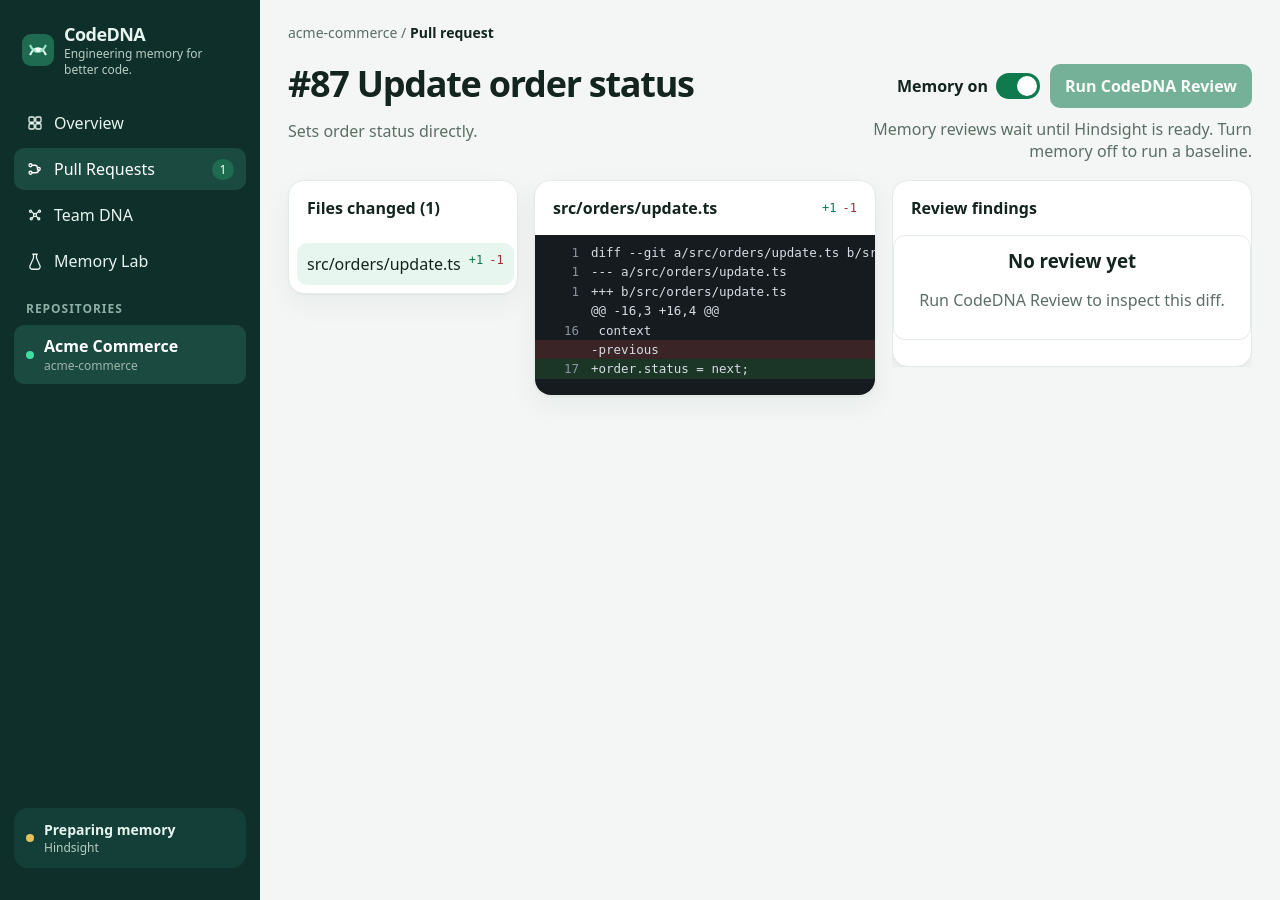
Scenario: keeps memory review disabled until Hindsight is ready and still allows a baseline
Expected: the heading "#87 Update order status" is shown, 288,64 -> 694,104
Expected: the text "Preparing memory" is shown, 44,820 -> 176,839
Click the switch named "Memory enabled": coordinates (1018, 86) 996,73 -> 1040,99
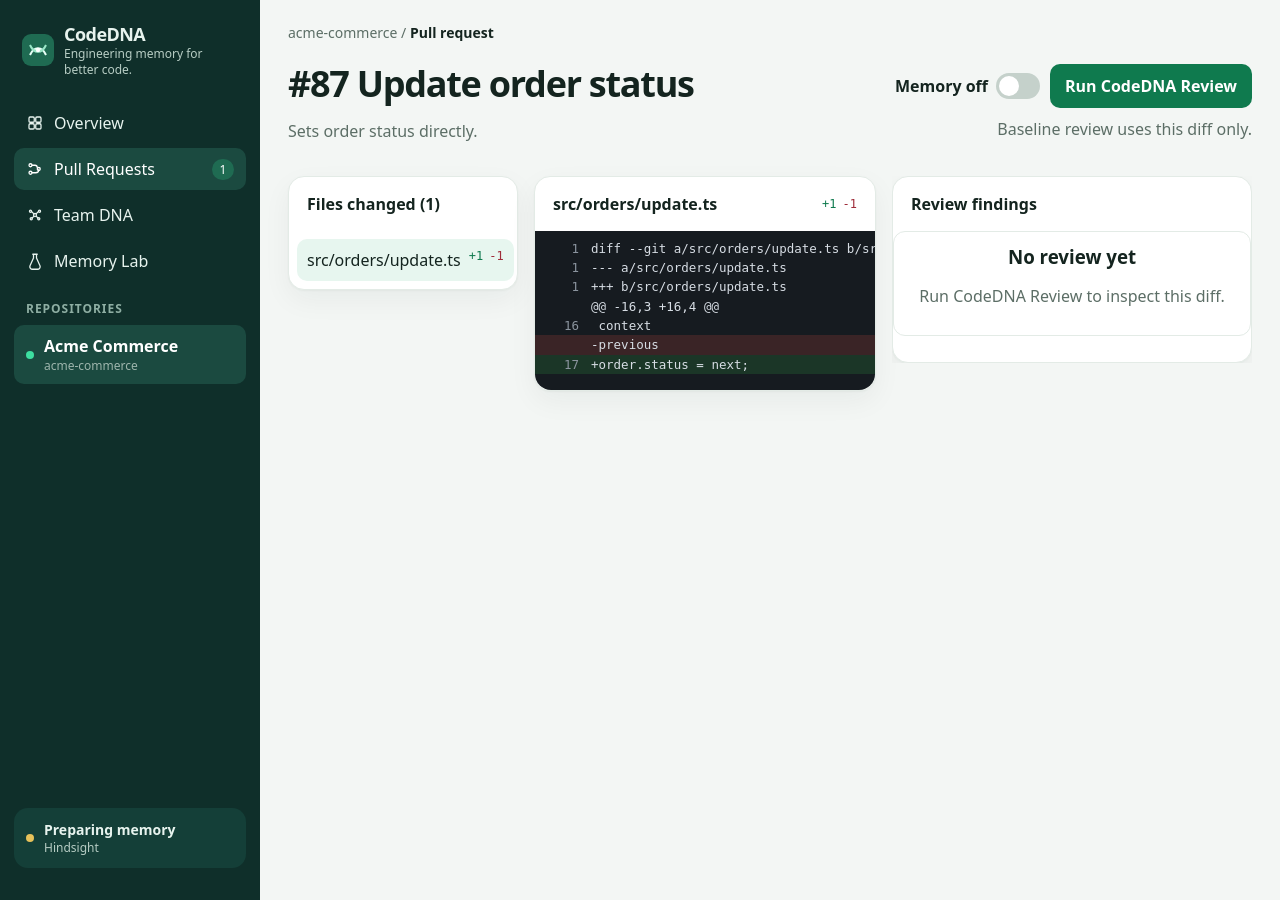
Now the button "Run CodeDNA Review" is enabled, box 1050,64 -> 1252,108
